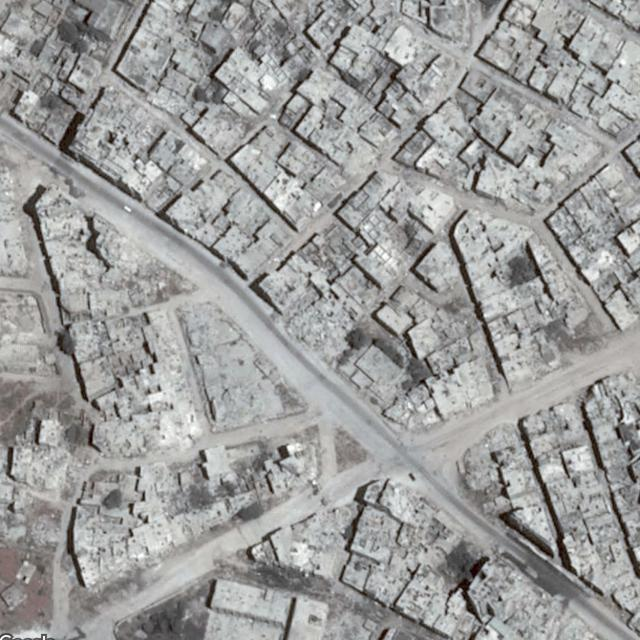damaged_building: (47, 212, 195, 318), (466, 555, 602, 640), (245, 504, 357, 577), (278, 290, 354, 364), (453, 422, 529, 494)
